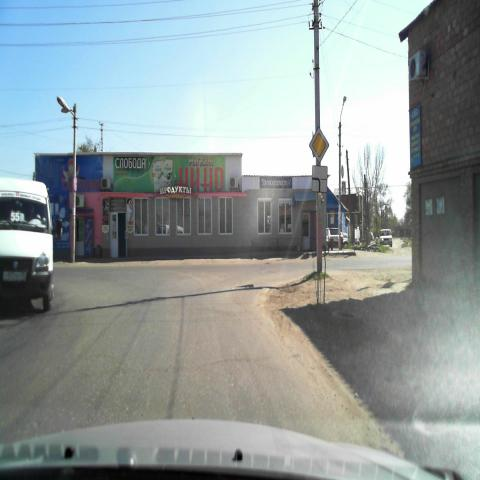8_13: (312, 165, 328, 193)
